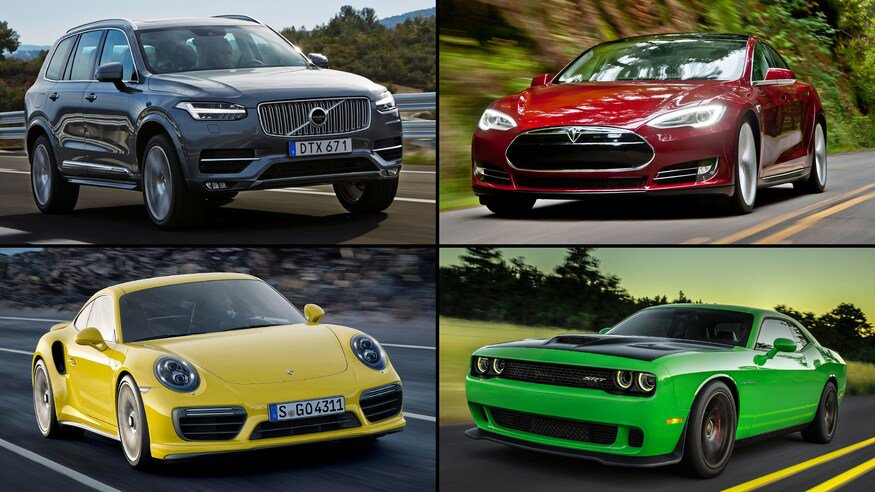car: (28, 10, 404, 218), (26, 266, 405, 460), (461, 299, 850, 478), (465, 26, 830, 209)
